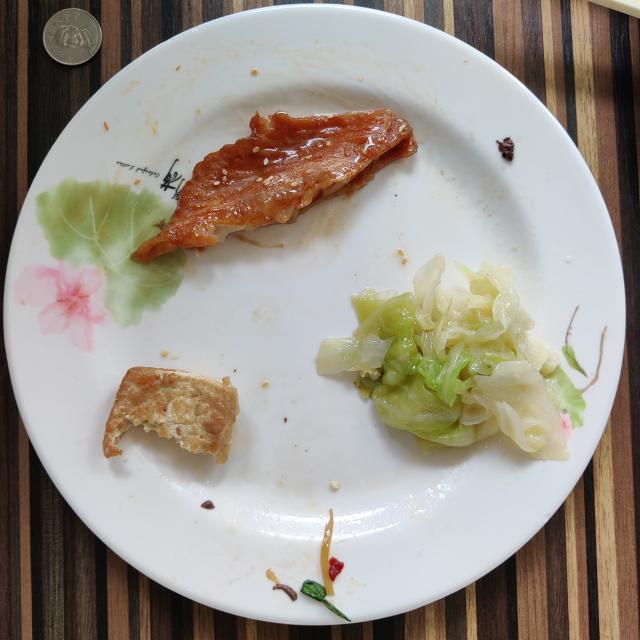Kabayaki sea bream fillet: (131, 110, 418, 264)
cabbage: (318, 255, 569, 460)
coin: (42, 9, 102, 65)
